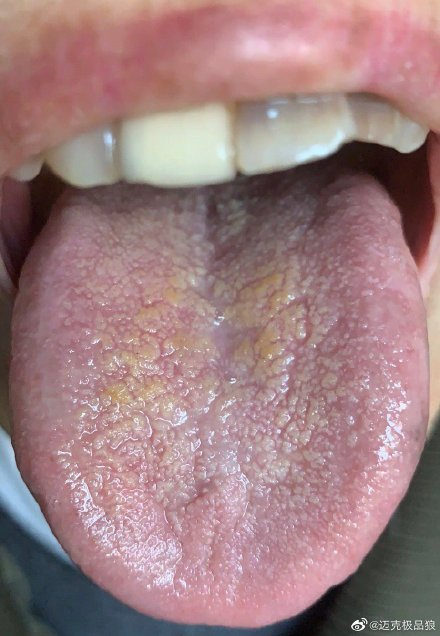huangtaishe: (9, 155, 430, 628)
